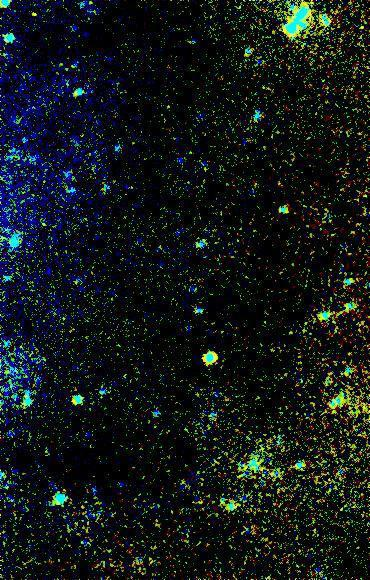star: (20, 0, 50, 29)
